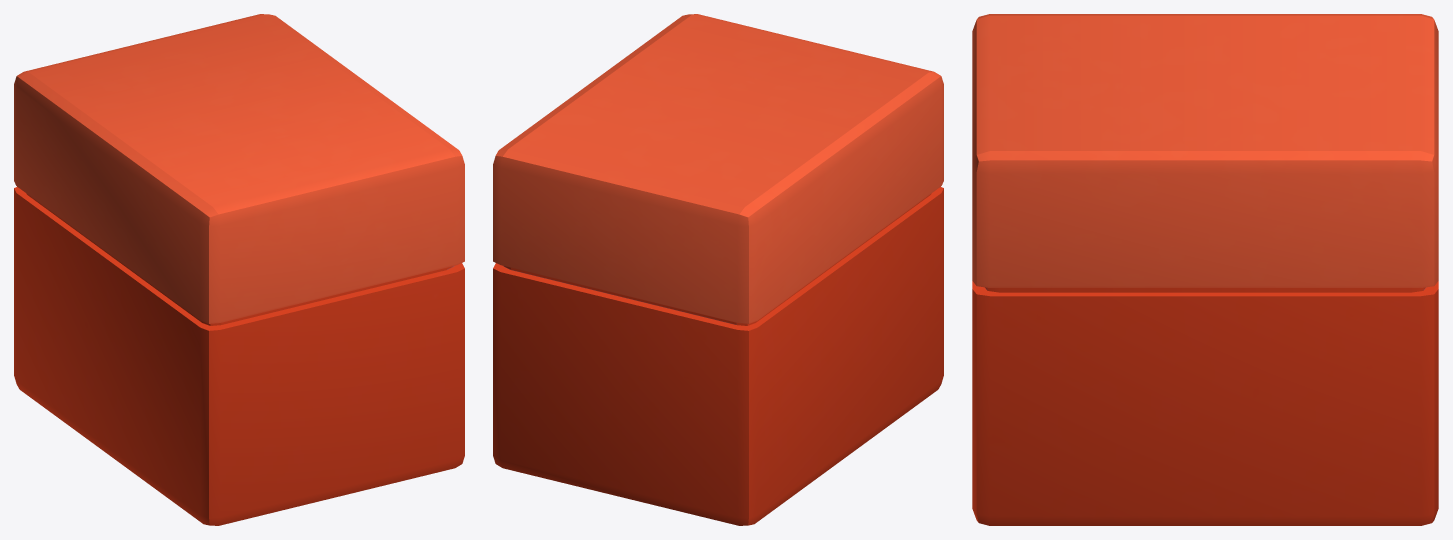
Rendered from Shelf Item (8).fbx.
The picture shows the model from 3 angles, left to right: view 1: azimuth 30°, elevation 25°; view 2: azimuth 150°, elevation 25°; view 3: azimuth 270°, elevation 25°; orthographic projection. The views are drawn at different scales.
Parts seen in each view (by area): view 1: Object126; view 2: Object126; view 3: Object126.
Part boxes in pixels (<box>): Object126: <box>14,14,464,525</box>; Object126: <box>493,14,943,525</box>; Object126: <box>972,14,1438,525</box>.
Size of the model in its own units: 8.12 by 9.41 by 10.65.
